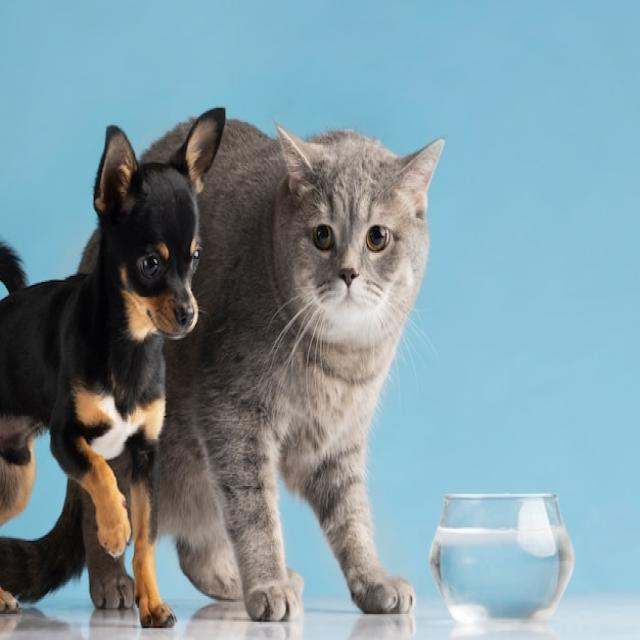Dog: (0, 106, 226, 640)
